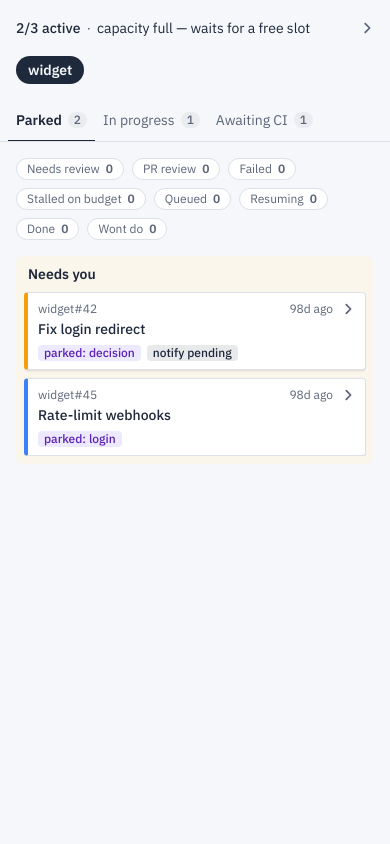
Test: phone header: one summary line with capacity and the next-claim verdict
The width and height of the screenshot is (390, 844).
Click the button named "2/3 active capacity full — waits for a free slot" at (195, 28), box [12,16,378,40]
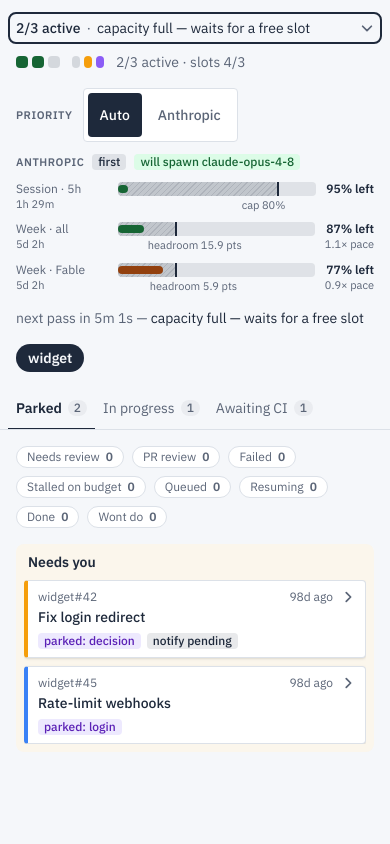
Check: the button named "2/3 active capacity full — waits for a free slot" is expanded, box [12,16,378,40]
